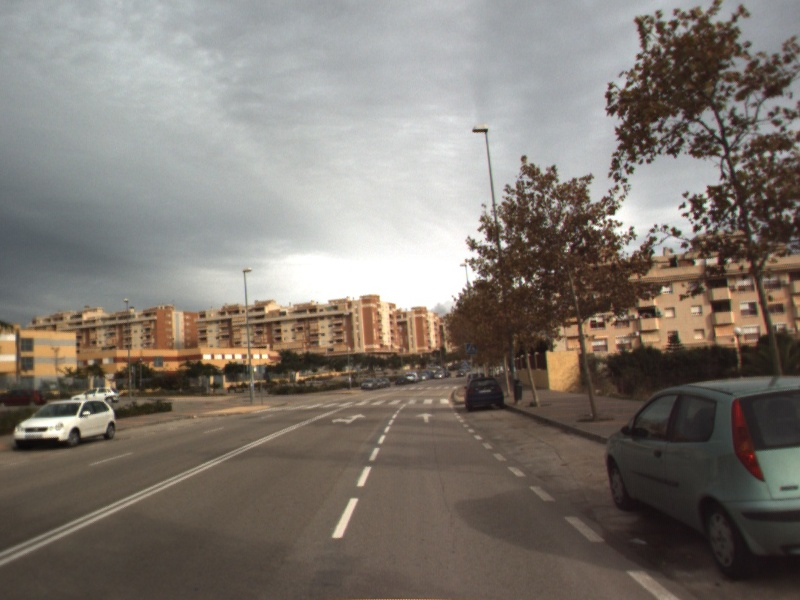STRAIGHT: (414, 411, 437, 424)
STRAIGHT_LEFT: (330, 411, 368, 426)
